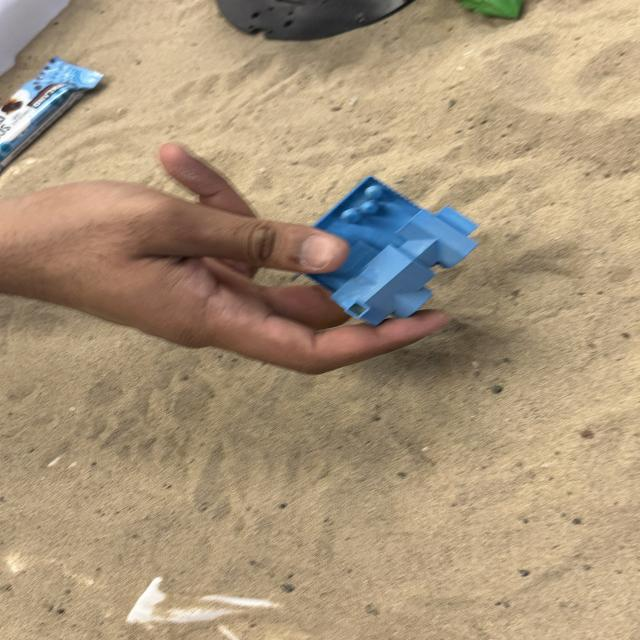house: (302, 175, 480, 326)
